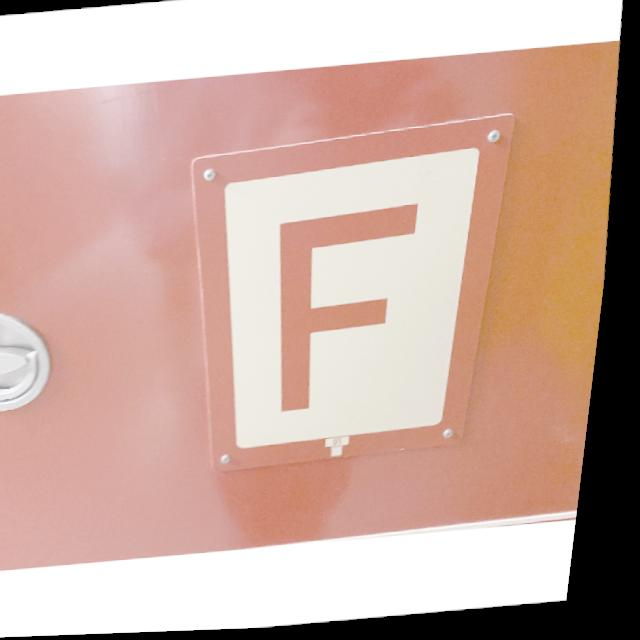fire extinguisher: (165, 116, 535, 480)
